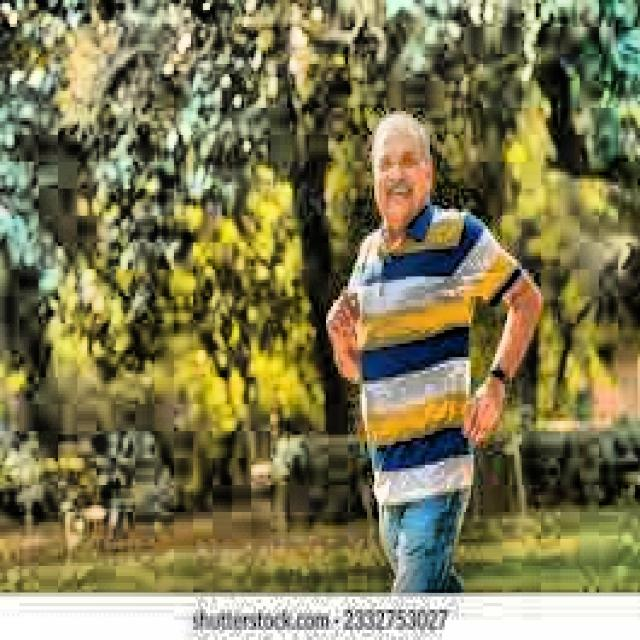Human: (325, 113, 525, 616)
